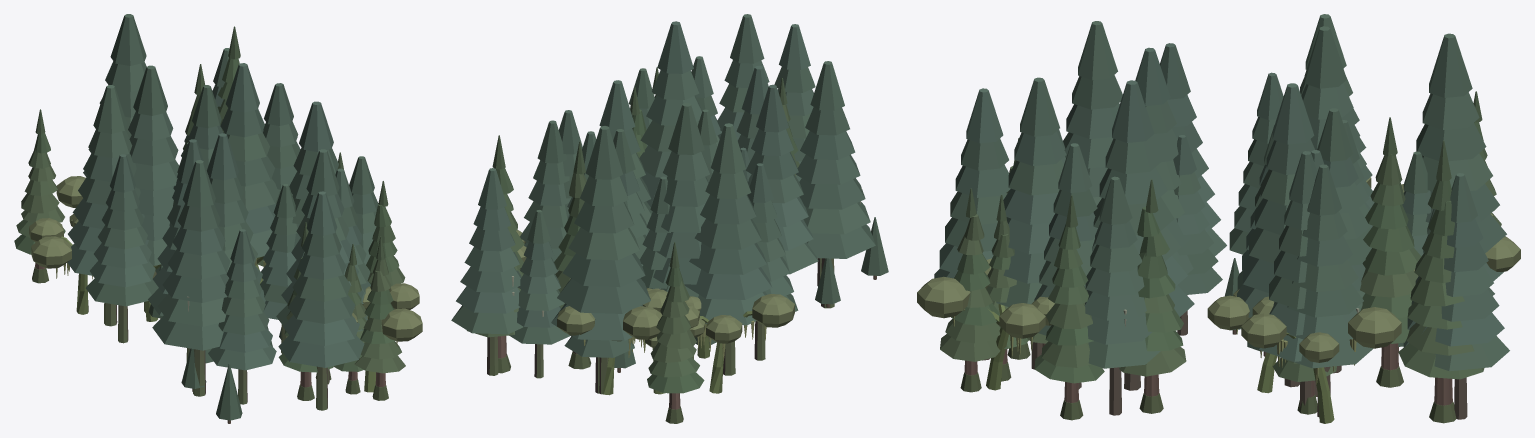
The model's file is Mist_Forest_3_3.fbx.
3 views of the same model, side by side, from view 1: azimuth 30°, elevation 25°; view 2: azimuth 150°, elevation 25°; view 3: azimuth 270°, elevation 25° (orthographic). The views are drawn at different scales.
Parts seen in each view (by area): view 1: Mist_Forest_3_3; view 2: Mist_Forest_3_3; view 3: Mist_Forest_3_3.
Boxes of the visible parts, bbox=[...] form: Mist_Forest_3_3: bbox=[14, 14, 422, 423]; Mist_Forest_3_3: bbox=[451, 14, 888, 423]; Mist_Forest_3_3: bbox=[917, 14, 1520, 423].
Bounding box in the file's own units: 29.84 × 24.93 × 42.69.
